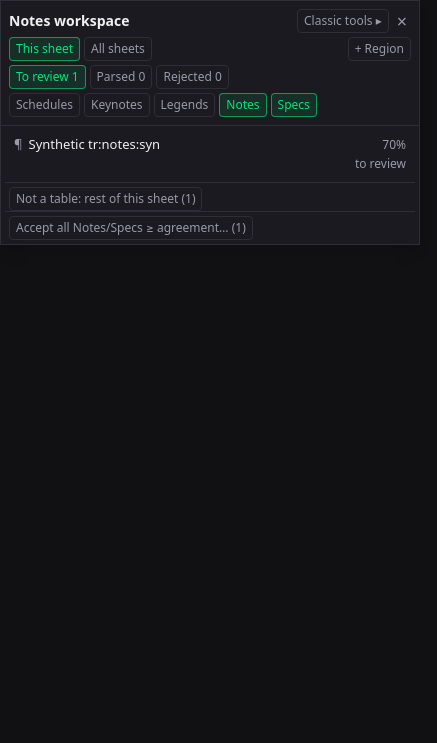
Test: click paths (PLAN §3.3) › C · notes block: split a paragraph, rekey one, Accept → the paragraph ops ride on the machine base
Later steps or results of the test are not shown.
Click the button "¶ Synthetic tr:notes:syn 70% to review".
click(94, 144)  # box [5,130,415,178]
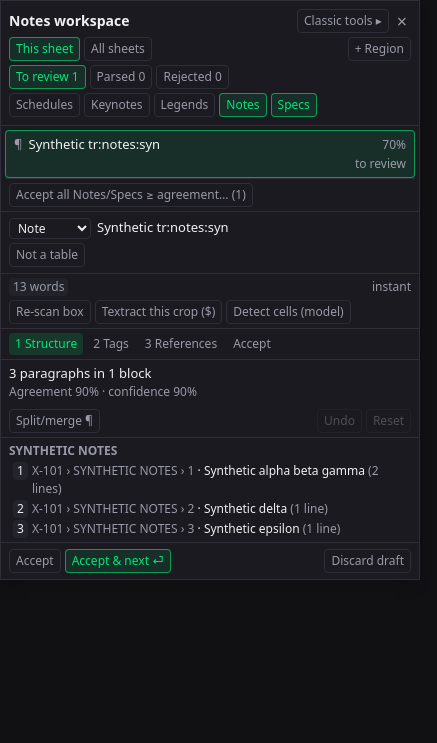
Now the text "3 paragraphs in 1 block" is shown, box [9,364,152,382]
Now the text "X-101 › SYNTHETIC NOTES › 2" is shown, box [32,500,194,517]
Click the button "Split/merge ¶".
click(54, 421)  # box [9,409,100,433]
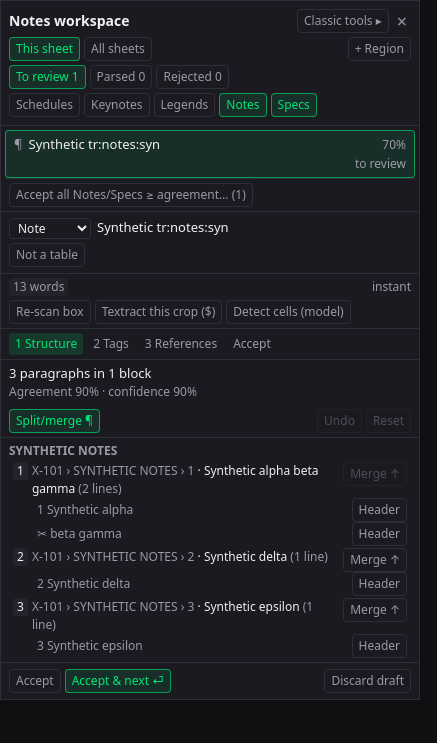
Click the button "✂ beta gamma".
click(86, 534)  # box [37,525,348,543]
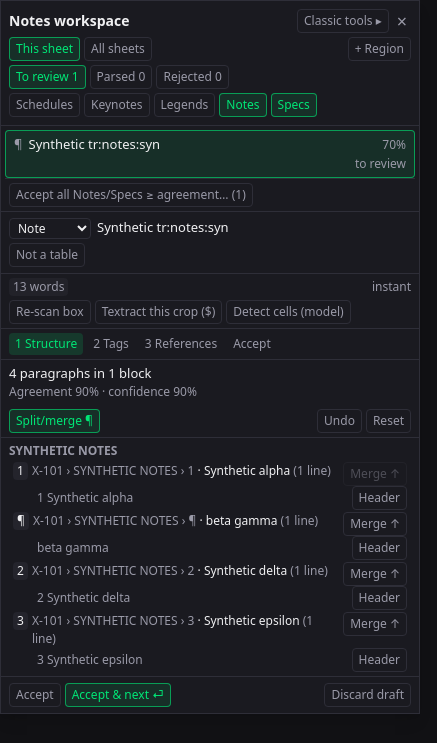
Click the button named "Key 2: rekey".
click(20, 571)  # box [13,562,28,580]
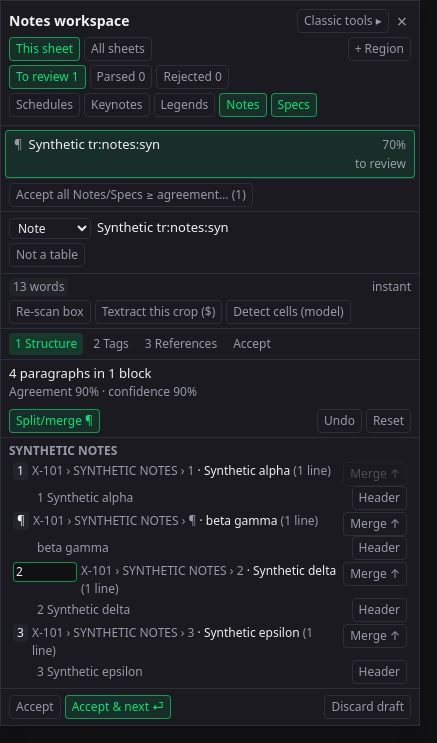
Replace the text in the field named "Key of paragraph p2" with "2.1" at (45, 572), box [13,562,77,582]
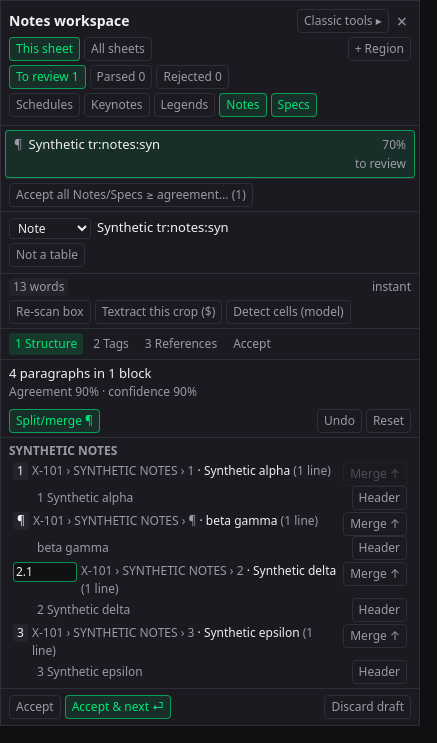
Press Enter in the field named "Key of paragraph p2", box [13,562,77,582]
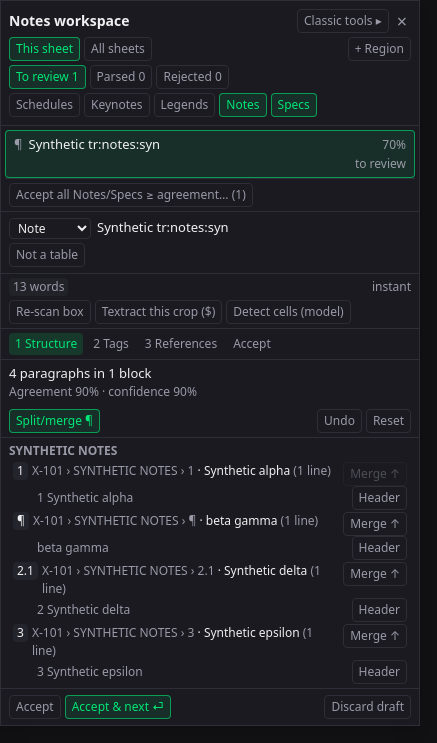
Now the text "4 paragraphs in 1 block" is shown, box [9,364,152,382]
Now the text "X-101 › SYNTHETIC NOTES › 2.1" is shown, box [42,562,215,579]
